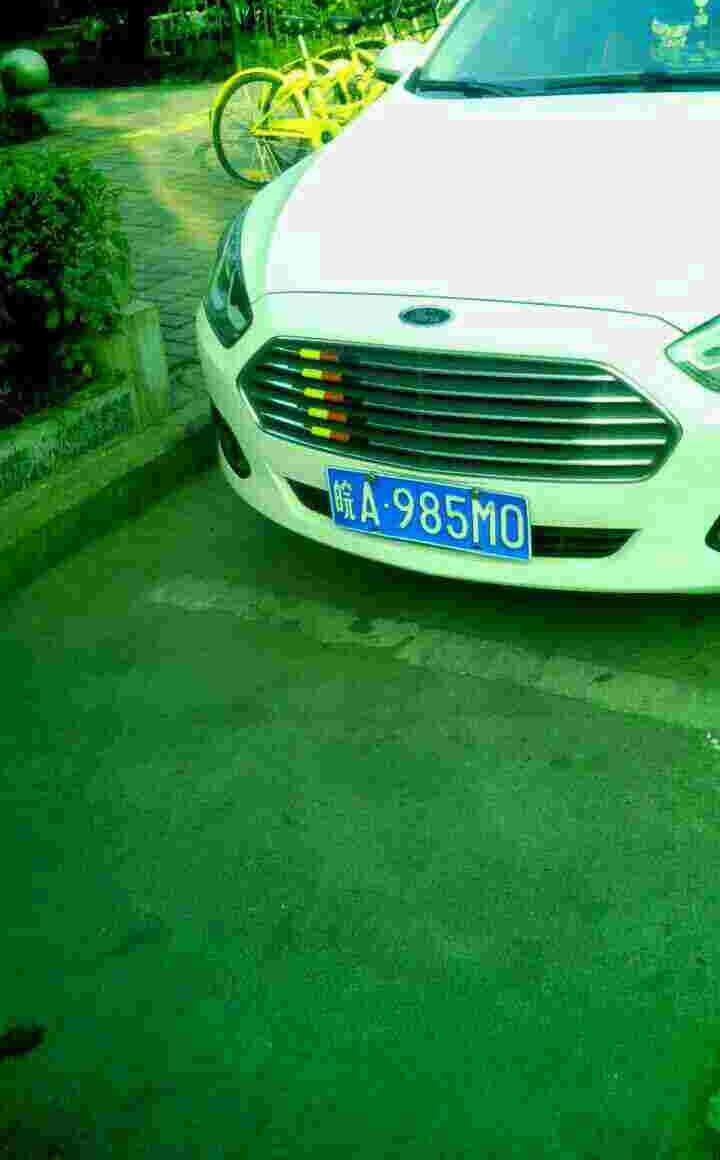plate: (323, 459, 537, 566)
